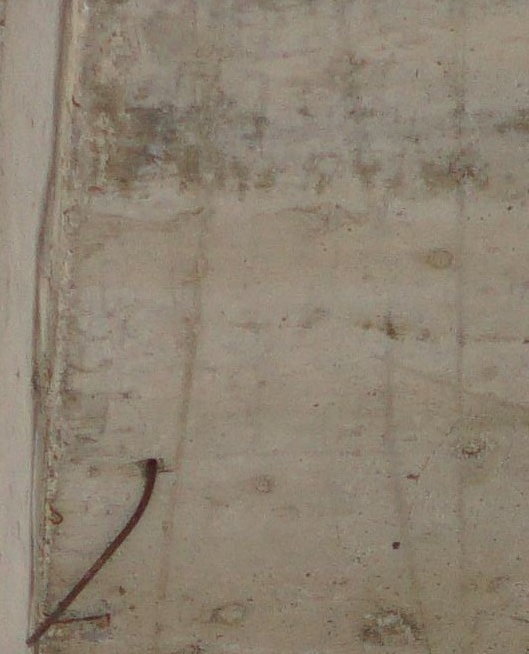Exposed reinforcement: (25, 457, 158, 647)
